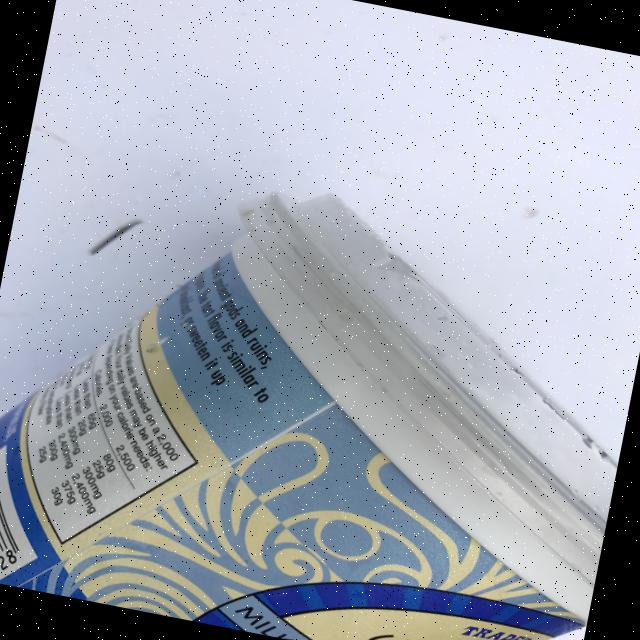plastic: (0, 133, 640, 640)
